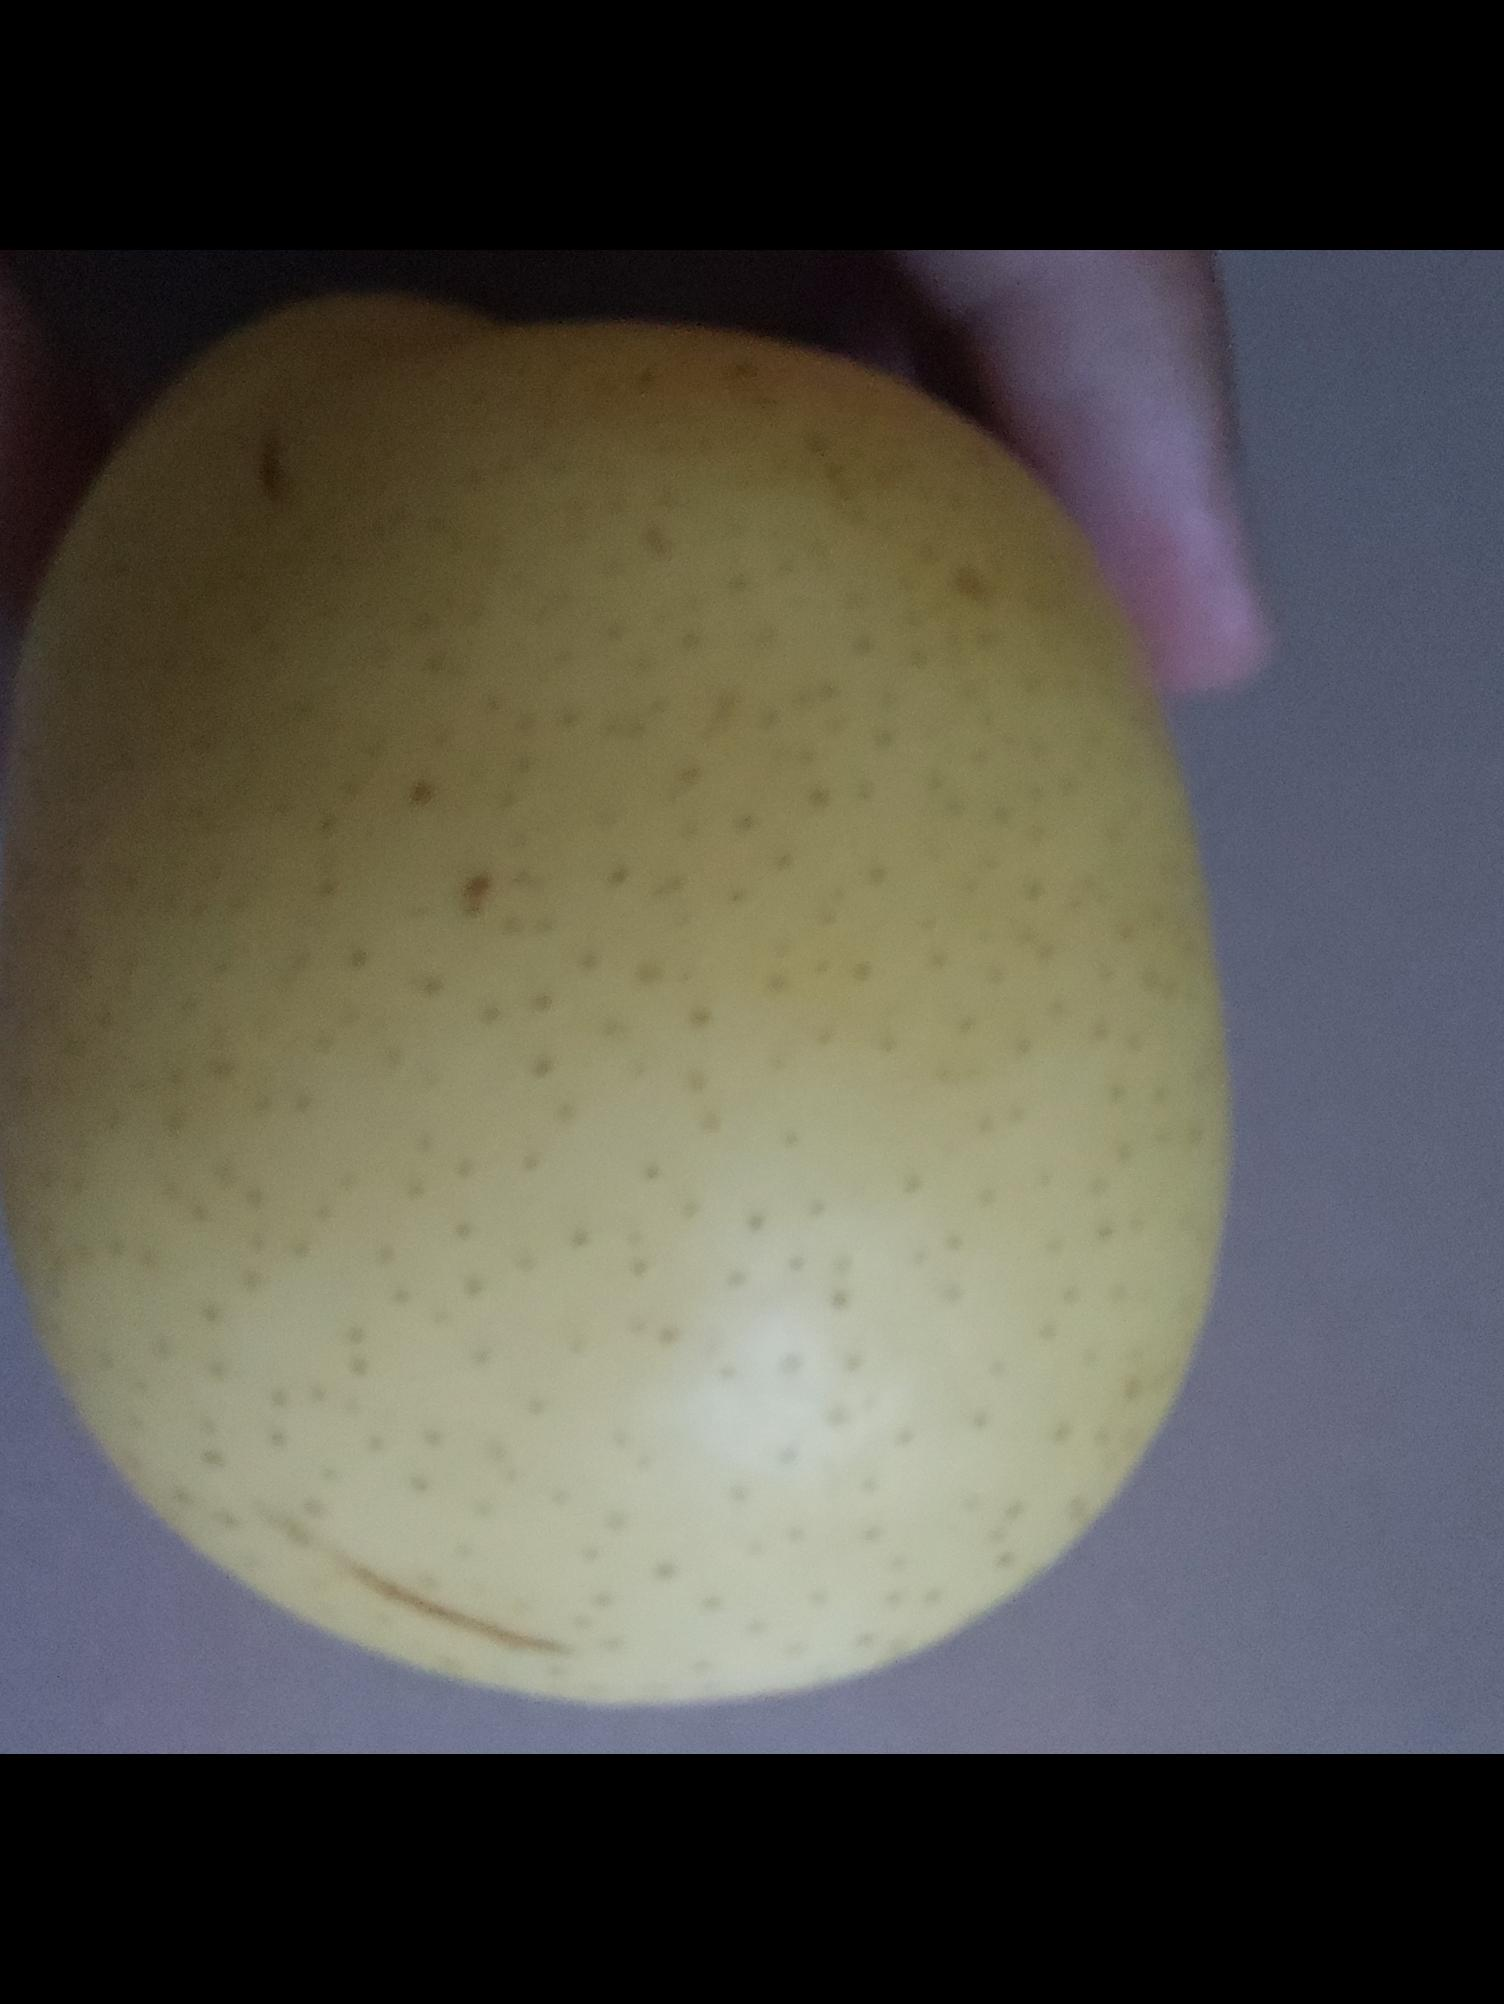Good Pear: (2, 498, 1134, 1724)
